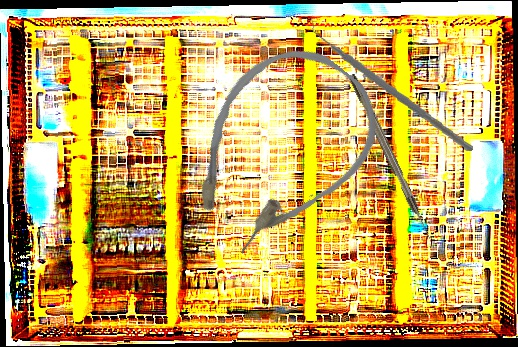Cannula: (154, 21, 403, 280)
Chopper: (301, 14, 483, 152)
Hook Surgical: (347, 72, 434, 242)
